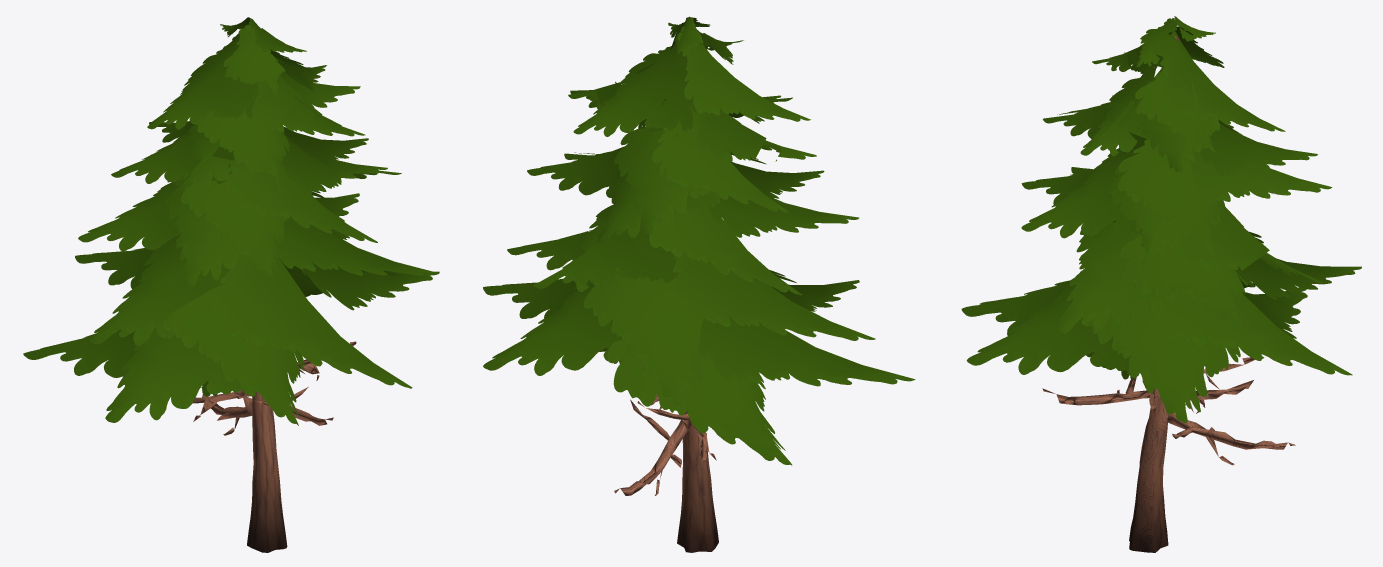
Rendered from Pine_1.glb.
3 views of the same model, side by side, from view 1: azimuth 30°, elevation 25°; view 2: azimuth 150°, elevation 25°; view 3: azimuth 270°, elevation 25° (orthographic). The views are drawn at different scales.
Parts seen in each view (by area): view 1: Pine_1; view 2: Pine_1; view 3: Pine_1.
Part boxes in pixels (bbox=[...]): Pine_1: bbox=[23, 17, 439, 552]; Pine_1: bbox=[483, 16, 915, 552]; Pine_1: bbox=[961, 16, 1361, 552].
Bounding box in the file's own units: 5.73 × 7.33 × 5.24.
Materials: 2 (2 with a texture image).
